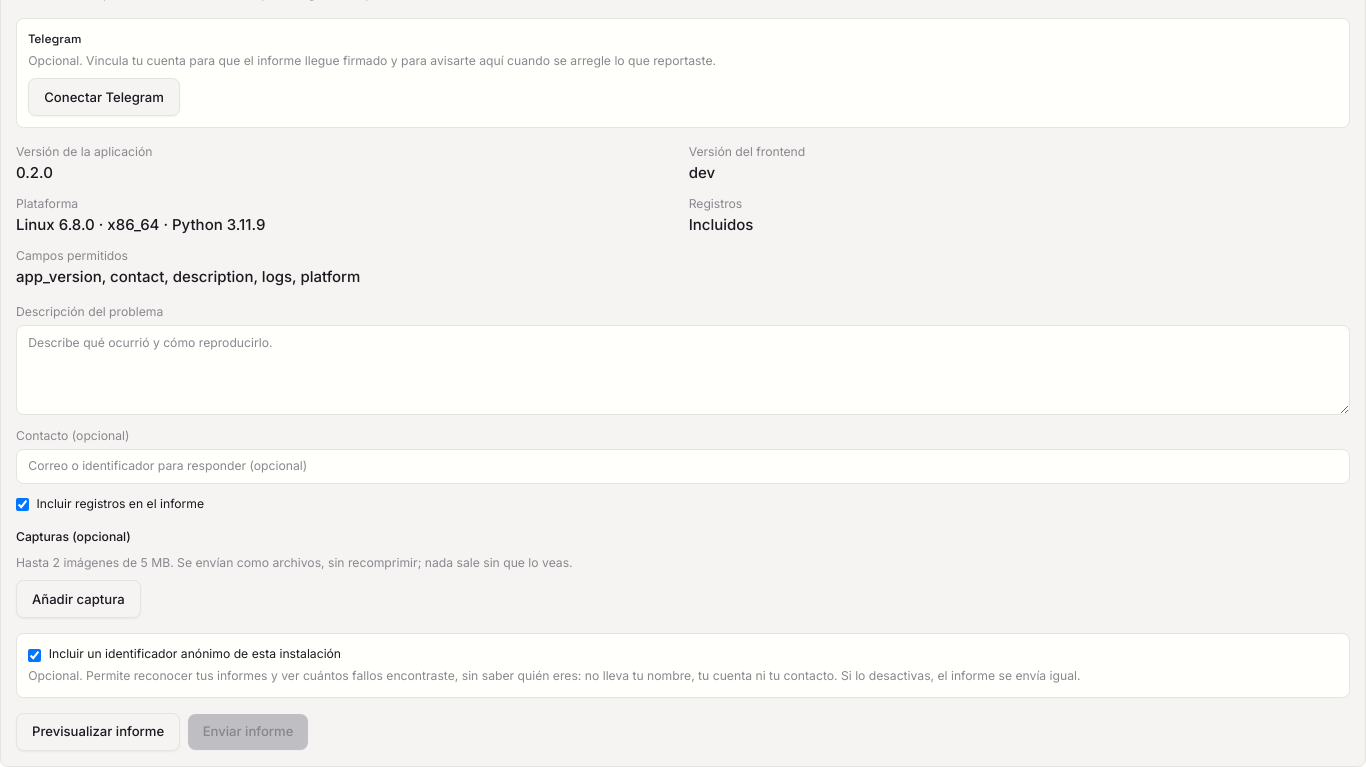
Test: ReportSection — preview gate, submit and strict fallback (S2b) › keeps submit disabled until the preview is rendered (mandatory gate)
The width and height of the screenshot is (1366, 767).
(page scrolled)
expect the text "0.2.0" is shown: met, box [16,163,53,182]
expect the button "Enviar informe" is disabled: met, box [188,714,308,750]
Click the button "Previsualizar informe": point(98, 732) [16,713,180,751]
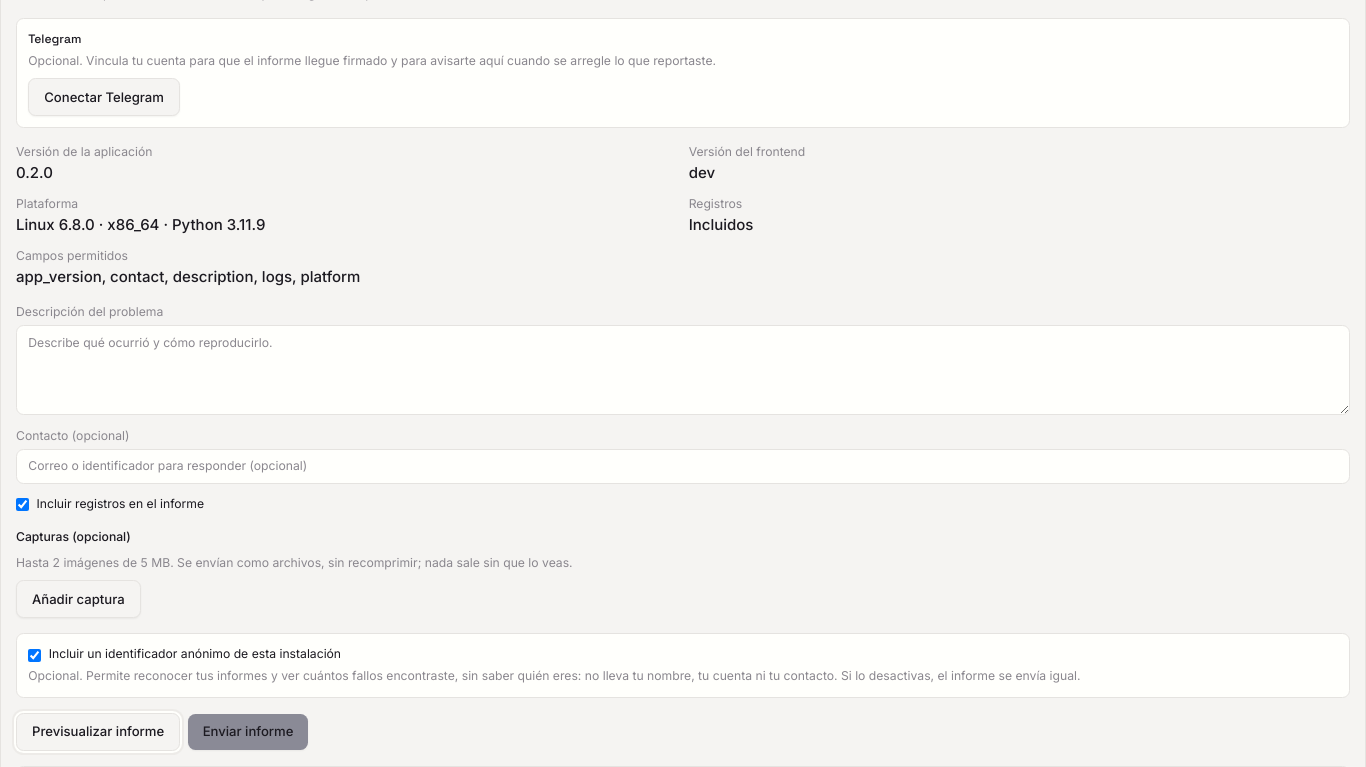
expect the button "Enviar informe" is enabled: met, box [188,714,308,750]
In the text box labelled "Descripción del problema": point(683, 370) [16,325,1350,415], type "changed"
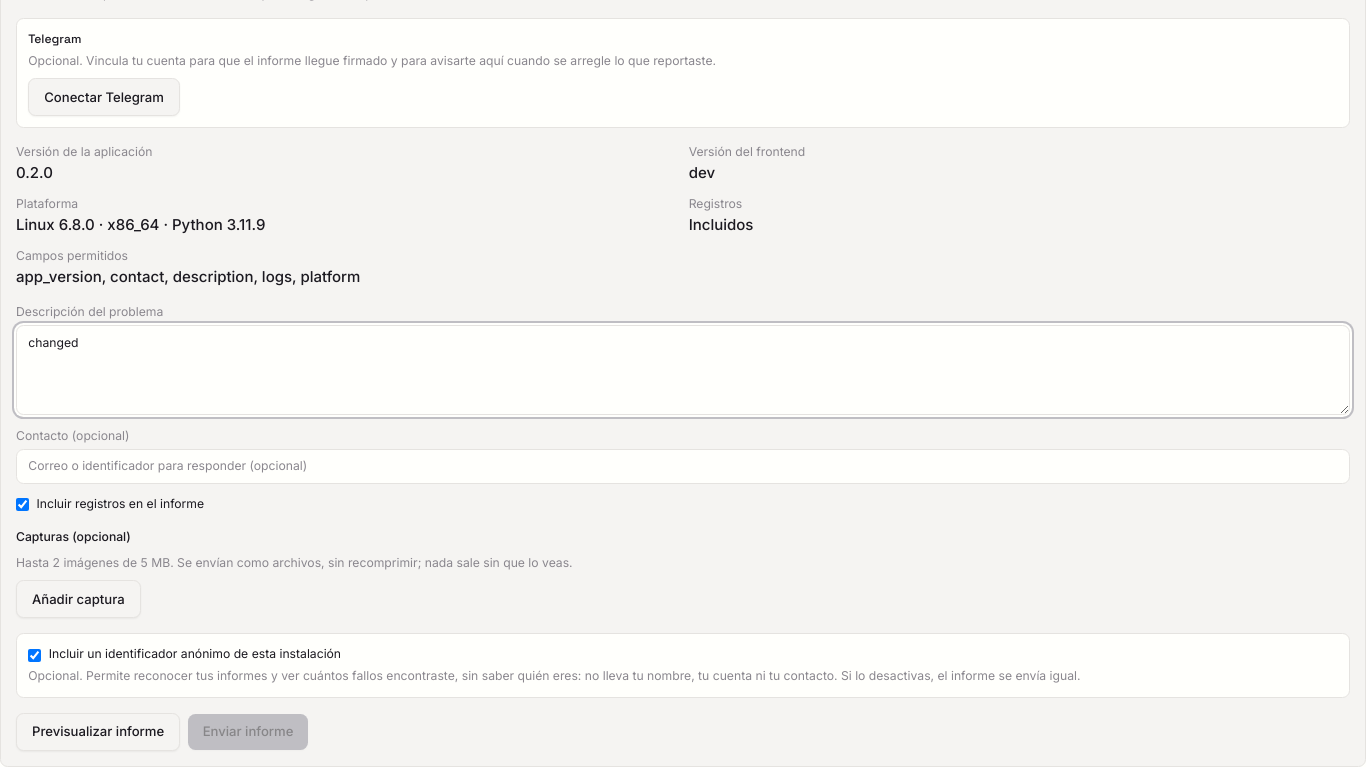
expect the button "Enviar informe" is disabled: met, box [188,714,308,750]
